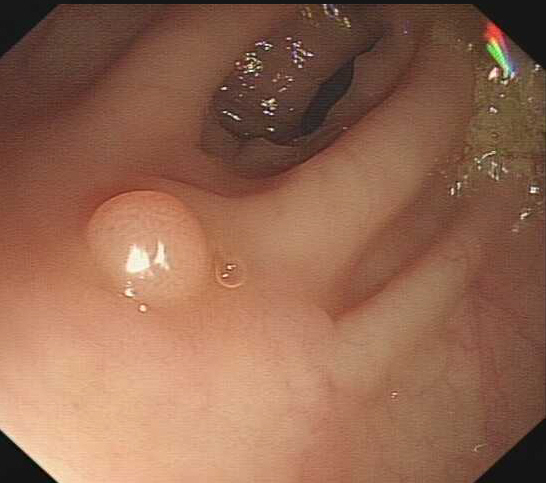adenoma: (82, 186, 212, 310)
